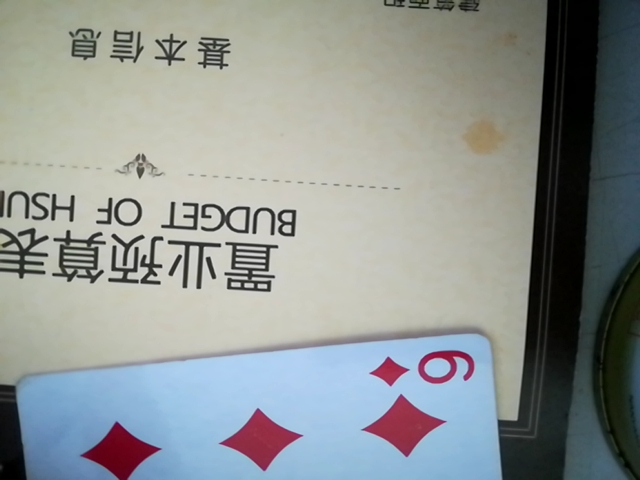fk 6: (0, 329, 516, 480)
